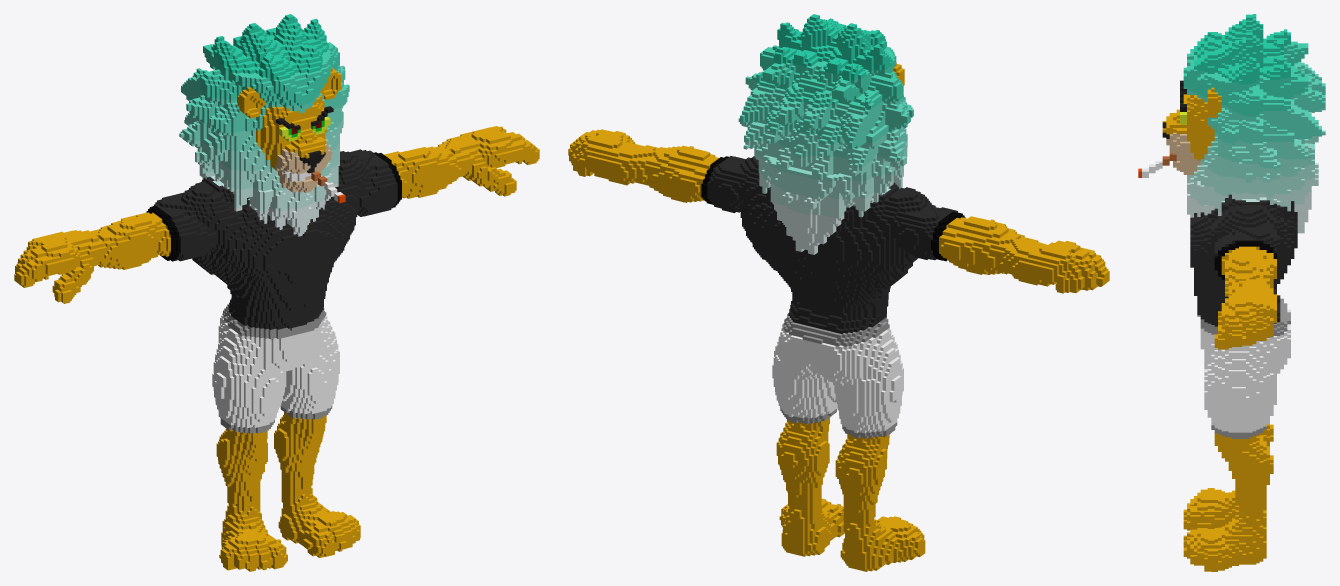
File: 517-DX0oZddS.glb
3 views of the same model, side by side, from view 1: azimuth 30°, elevation 25°; view 2: azimuth 150°, elevation 25°; view 3: azimuth 270°, elevation 25° (orthographic). The views are drawn at different scales.
Visible parts, largest first — view 1: cigarette; view 2: cigarette; view 3: cigarette.
Boxes of the visible parts, box(x1,y1,x2,y2) form: cigarette: box(14, 14, 539, 571); cigarette: box(568, 14, 1109, 571); cigarette: box(1138, 14, 1325, 571).
Size of the model in its own units: 17.2 by 16.5 by 5.4.
Materials: 5 (5 with a texture image).
